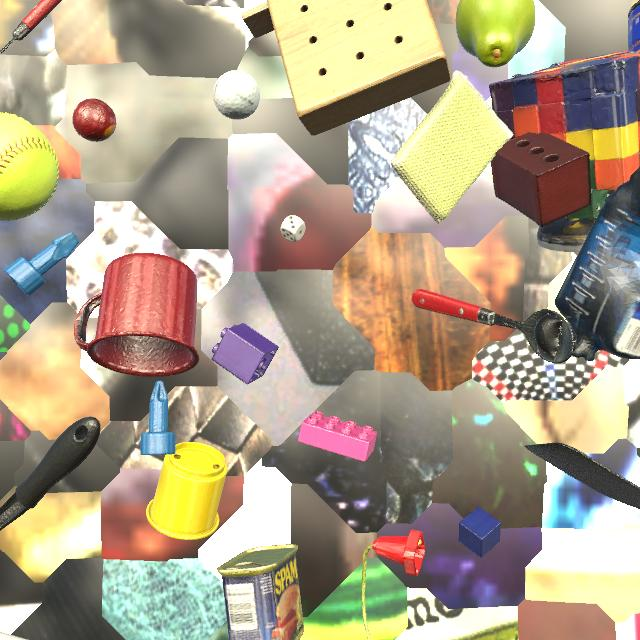ycb_002_master_chef_can: (628, 0, 640, 53)
ycb_010_potted_meat_can: (217, 544, 304, 640)
ycb_016_pear: (456, 0, 536, 67)
